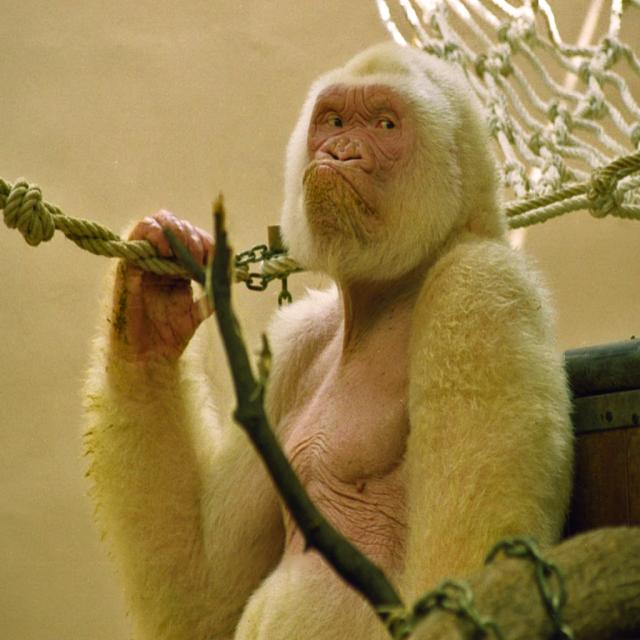Monkey: (76, 35, 575, 639)
